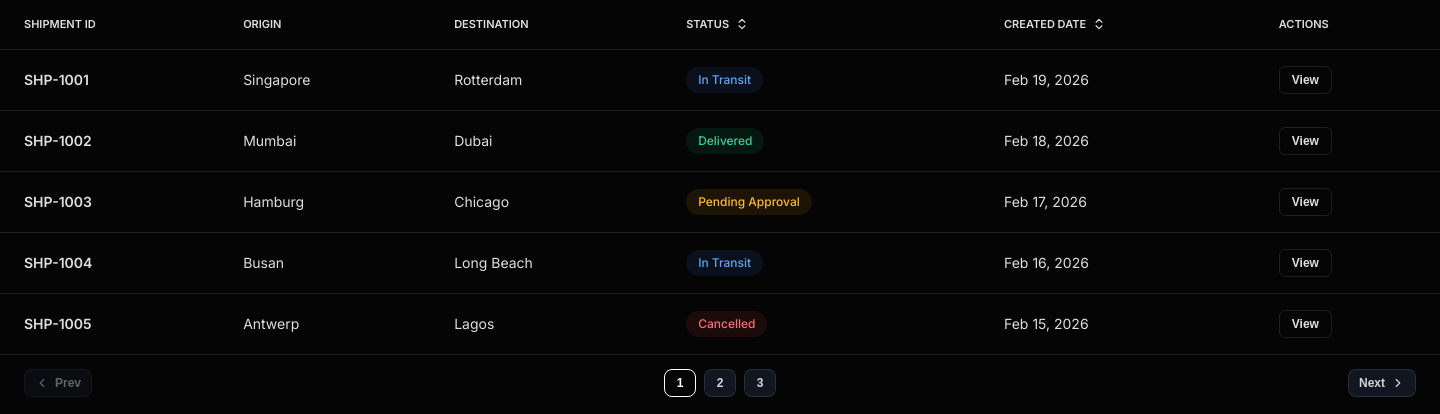
Test case: RecentShipments › sorts by status and toggles direction
The width and height of the screenshot is (1440, 414).
Click the button named "sort by status".
click(718, 24)  # box [686,16,749,32]
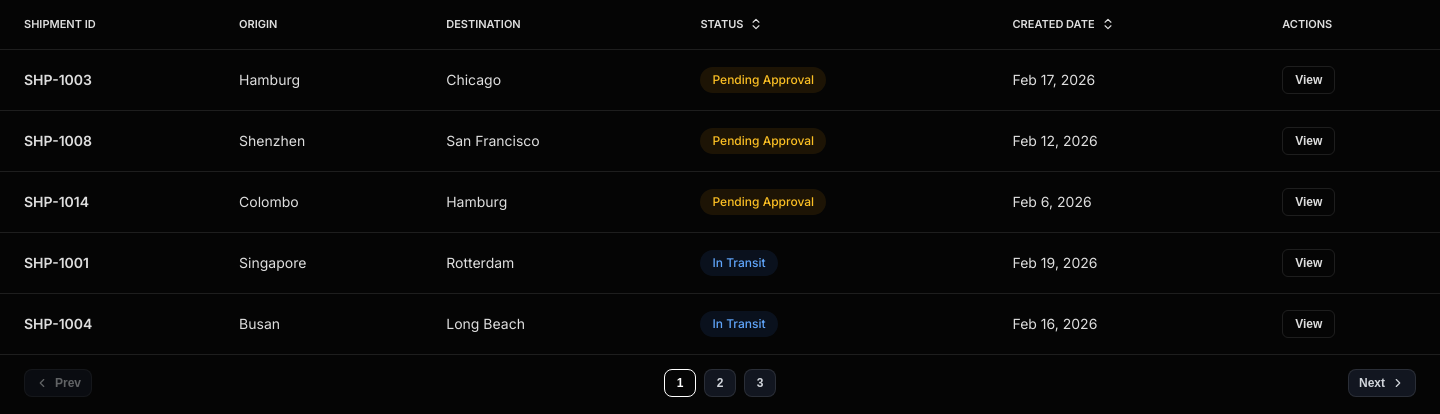
Check: the text "Pending Approval" in the row of "SHP-1003" is shown, box [712,72,814,86]
Click the button named "sort by status".
click(732, 24)  # box [700,16,763,32]
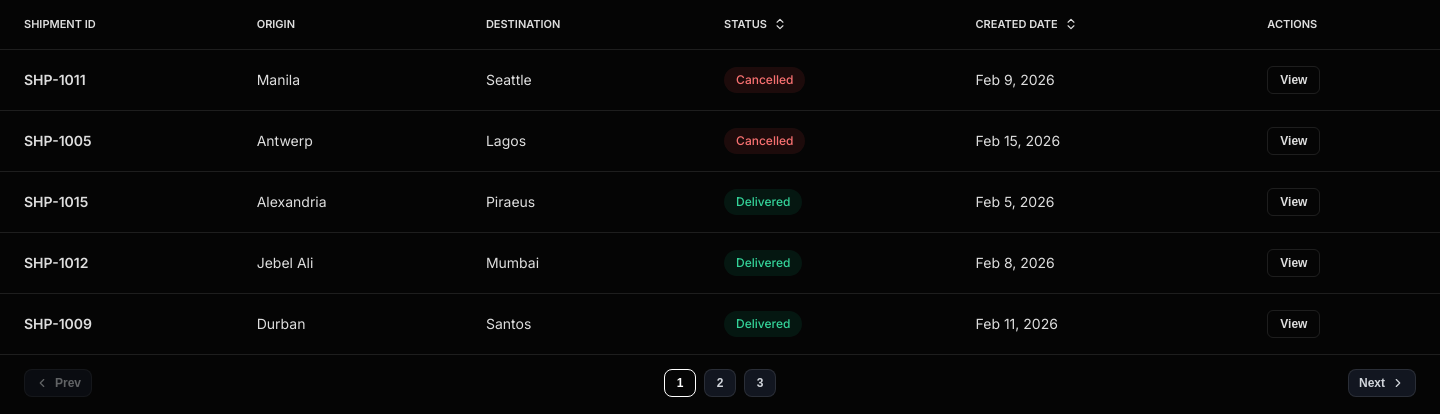
Check: the text "Cancelled" in the row of "SHP-1011" is shown, box [736,72,793,86]
